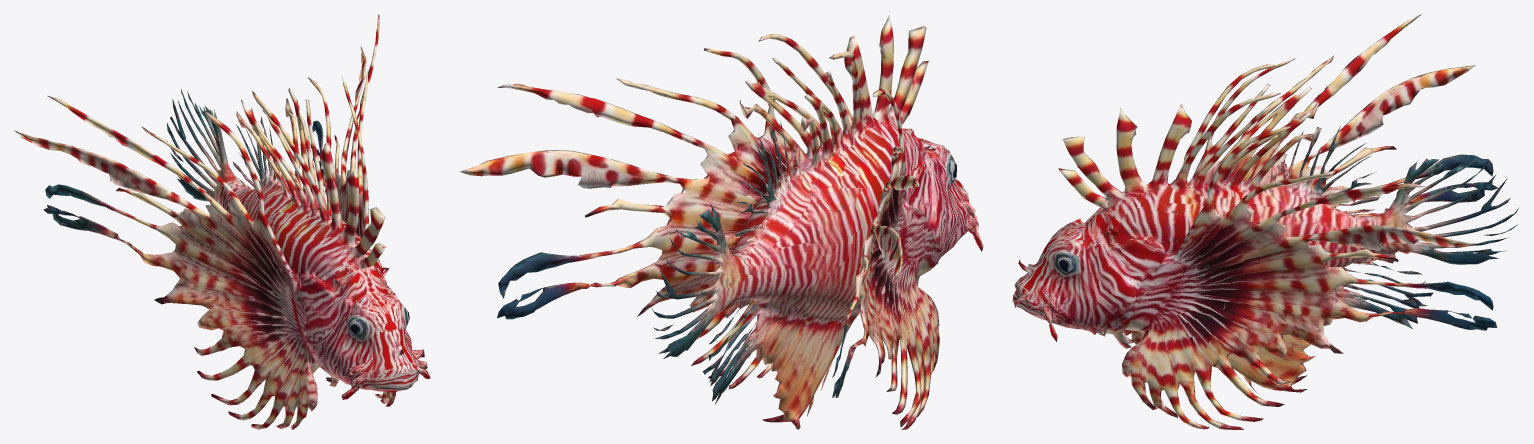
3 renders of one model, left to right at view 1: azimuth 30°, elevation 25°; view 2: azimuth 150°, elevation 25°; view 3: azimuth 270°, elevation 25°, orthographic. The views are drawn at different scales.
Parts seen in each view (by area): view 1: Object_5; view 2: Object_5; view 3: Object_5.
Part boxes in pixels (bbox=[...]): Object_5: bbox=[14, 14, 430, 429]; Object_5: bbox=[460, 14, 983, 429]; Object_5: bbox=[1012, 14, 1518, 429].
Bounding box in the file's own units: 1.58 × 1.32 × 1.9.
1 material, 1 textured.
